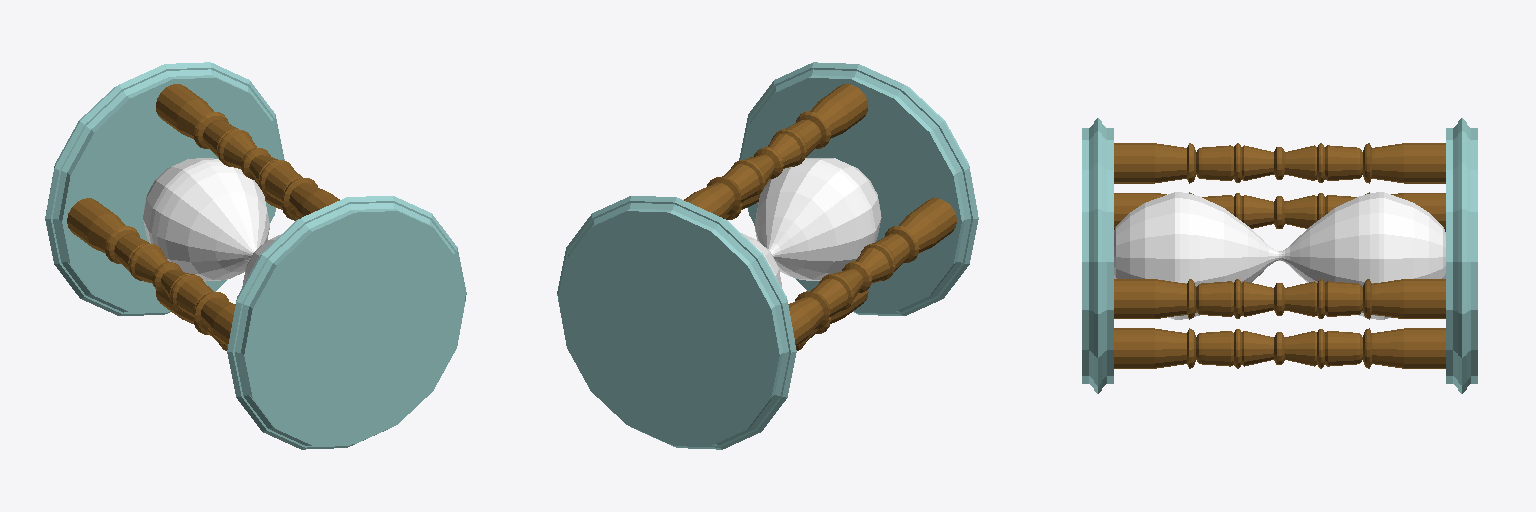
The model's file is HourglassWSand0.obj.
The picture shows the model from 3 angles: view 1: azimuth 30°, elevation 25°; view 2: azimuth 150°, elevation 25°; view 3: azimuth 270°, elevation 25°; orthographic projection.
Parts seen in each view (by area): view 1: Top, Bottom, Glass, PostLeft, PostRear, PostFront; view 2: Bottom, Top, Glass, PostLeft, PostRear, PostFront; view 3: Glass, PostRear, PostFront, PostRight, Bottom, Top, PostLeft.
Boxes of the visible parts, <box> form: Top: <box>227,196,466,449</box>; Bottom: <box>45,62,284,315</box>; Glass: <box>143,158,281,286</box>; PostLeft: <box>67,198,235,346</box>; PostRear: <box>156,84,339,217</box>; PostFront: <box>156,290,227,350</box>; Bottom: <box>557,196,796,449</box>; Top: <box>739,62,978,315</box>; Glass: <box>741,158,881,286</box>; PostLeft: <box>788,198,956,346</box>; PostRear: <box>684,84,868,218</box>; PostFront: <box>796,290,868,350</box>; Glass: <box>1114,192,1445,319</box>; PostRear: <box>1114,143,1445,183</box>; PostFront: <box>1114,328,1445,368</box>; PostRight: <box>1114,279,1445,319</box>; Bottom: <box>1446,118,1477,393</box>; Top: <box>1082,118,1113,393</box>; PostLeft: <box>1114,192,1445,231</box>.
Bounding box in the file's own units: 2.17 × 2.17 × 3.1.